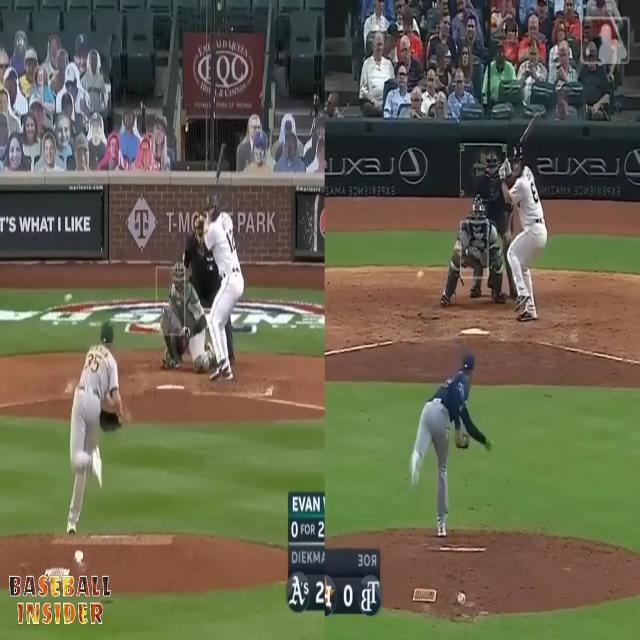baseball: (416, 268, 424, 280)
